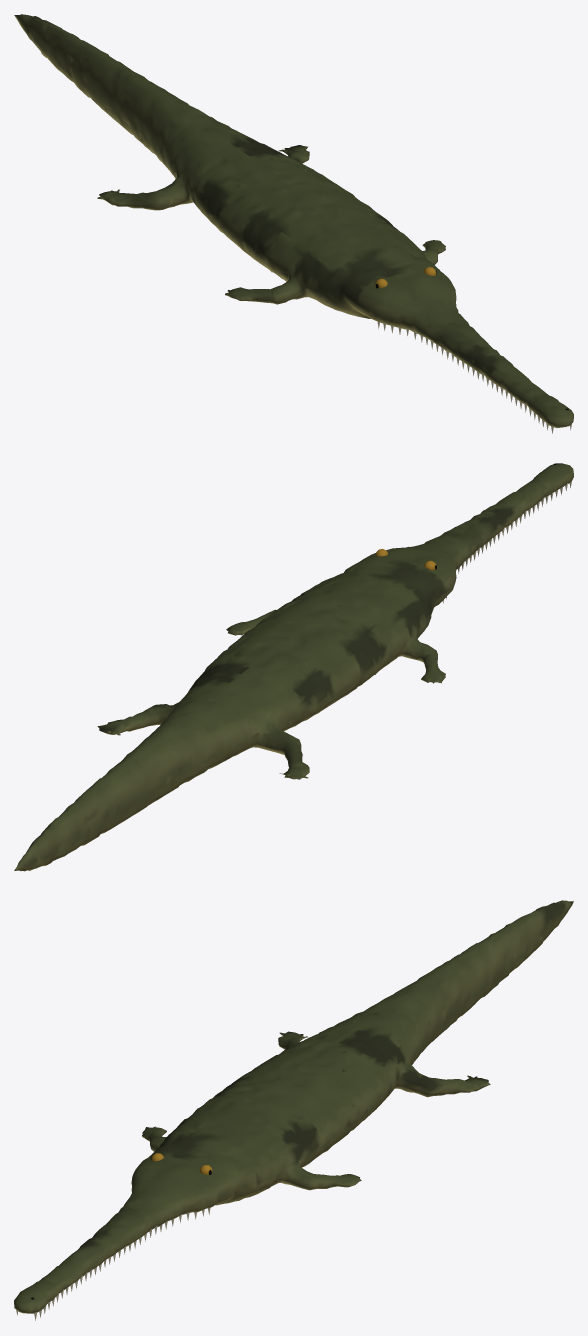
File: Prionosuchus.fbx
The picture shows the model from 3 angles, top to bottom: view 1: azimuth 30°, elevation 25°; view 2: azimuth 150°, elevation 25°; view 3: azimuth 330°, elevation 25°; orthographic projection.
Parts seen in each view (by area): view 1: Prionosuchus; view 2: Prionosuchus; view 3: Prionosuchus.
Boxes of the visible parts, <box> form: Prionosuchus: <box>14,14,573,433</box>; Prionosuchus: <box>14,463,573,871</box>; Prionosuchus: <box>14,900,573,1320</box>.
Bounding box in the file's own units: 0.4511 × 0.1334 × 2.
